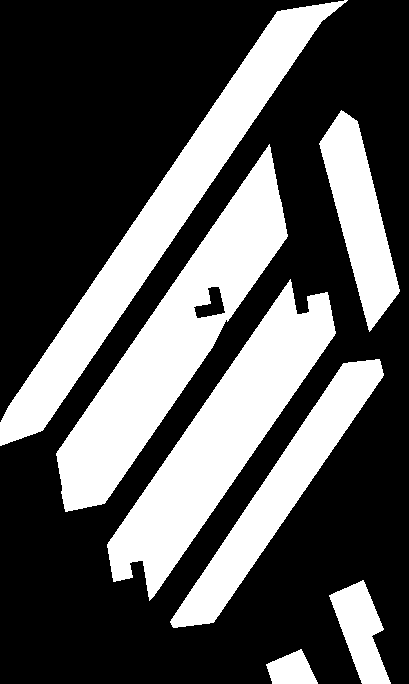parkingspot: (0, 0, 347, 445), (56, 144, 280, 493), (140, 292, 335, 600), (107, 279, 300, 581), (170, 359, 383, 627), (61, 312, 229, 511), (319, 110, 399, 331), (215, 199, 287, 321), (329, 580, 390, 684), (266, 649, 317, 684)
